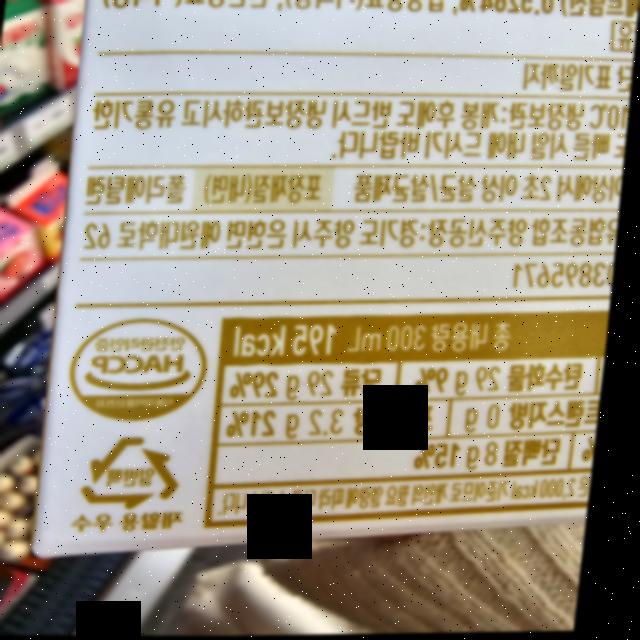NormalPack: (84, 430, 198, 516)
